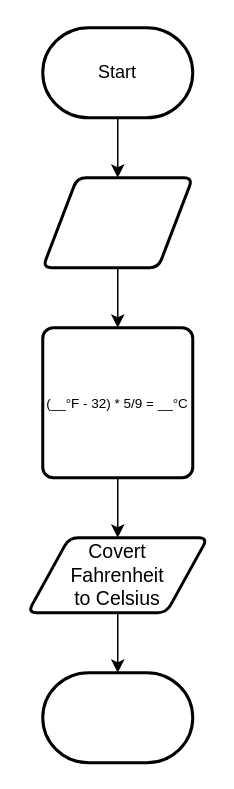
Some shapes in this 234 by 789 pixel diagram are drawn without their labels. Here are the shapes that lost their labels. From the top down, the centre of each, then its label:
At (x=117, y=222): "Enter Unit Of Fahrenheit".
At (x=117, y=717): "Stop".
